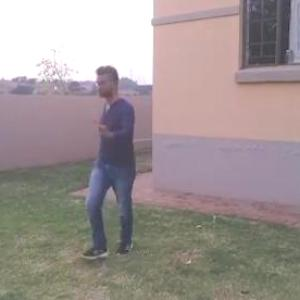takeoff-hand: (86, 111, 112, 136)
